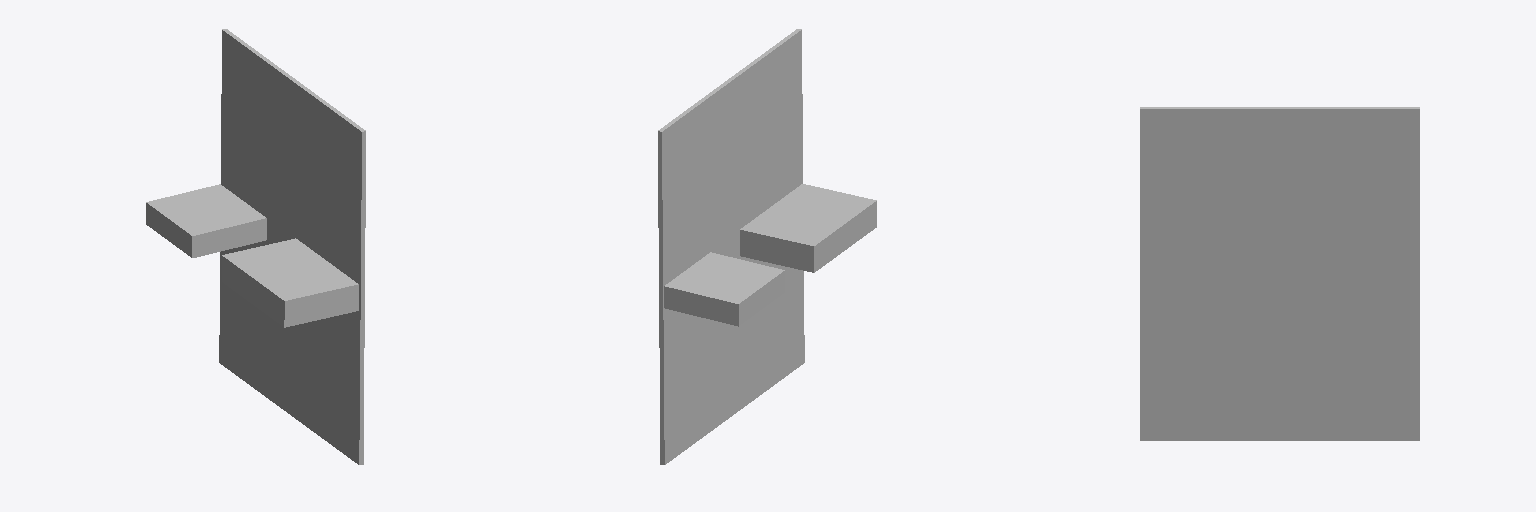
Rendered from tight_env.obj.
The picture shows the model from 3 angles: view 1: azimuth 30°, elevation 25°; view 2: azimuth 150°, elevation 25°; view 3: azimuth 270°, elevation 25°; orthographic projection.
Parts seen in each view (by area): view 1: Cube.001, Cube.003, Cube.002; view 2: Cube.001, Cube.003, Cube.002; view 3: Cube.001.
Boxes of the visible parts, x1=… form: Cube.001: x1=219, y1=29, x2=365, y2=464; Cube.003: x1=222, y1=238, x2=358, y2=327; Cube.002: x1=146, y1=184, x2=266, y2=257; Cube.001: x1=658, y1=29, x2=804, y2=464; Cube.003: x1=740, y1=184, x2=876, y2=272; Cube.002: x1=664, y1=252, x2=784, y2=326; Cube.001: x1=1140, y1=107, x2=1419, y2=440.
Size of the model in its own units: 0.3801 by 1.5 by 1.14.